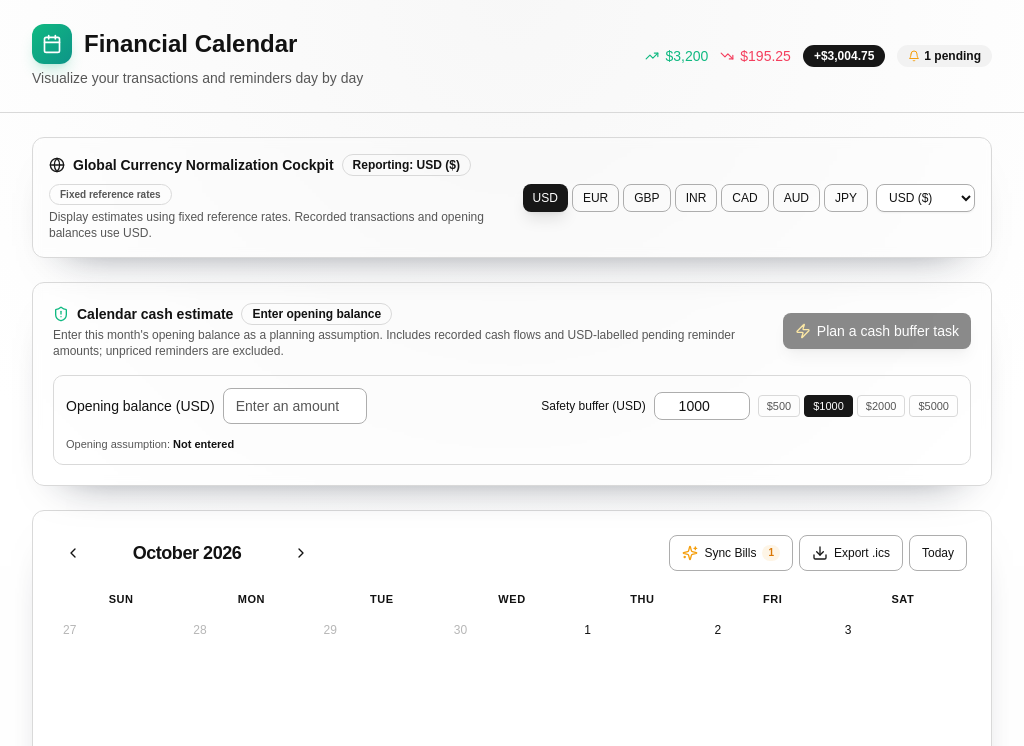
Test: FinancialCalendar Page › opens sync recurring bills dialog, selects candidate bill, and schedules reminder
Later steps or results of the test are not shown.
Expected: the text with test id "recurring-candidates-count" reads "1", [768,547,774,558]
Click the button with test id "sync-bills-trigger-btn".
click(731, 553)  # box [669,535,793,571]
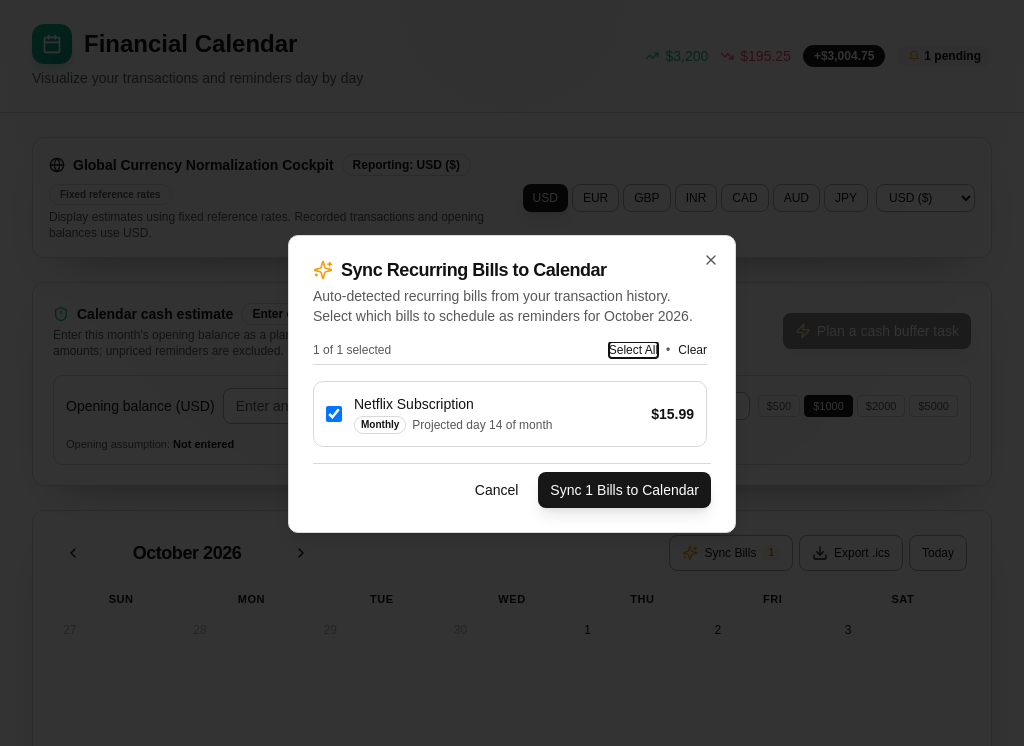
Expected: the dialog with test id "dialog-sync-recurring-bills" is shown, [288,235,736,533]
Expected: the text "Netflix Subscription" is shown, [354,396,474,412]
Expected: the text "Projected day 14 of month" is shown, [412,417,552,433]
